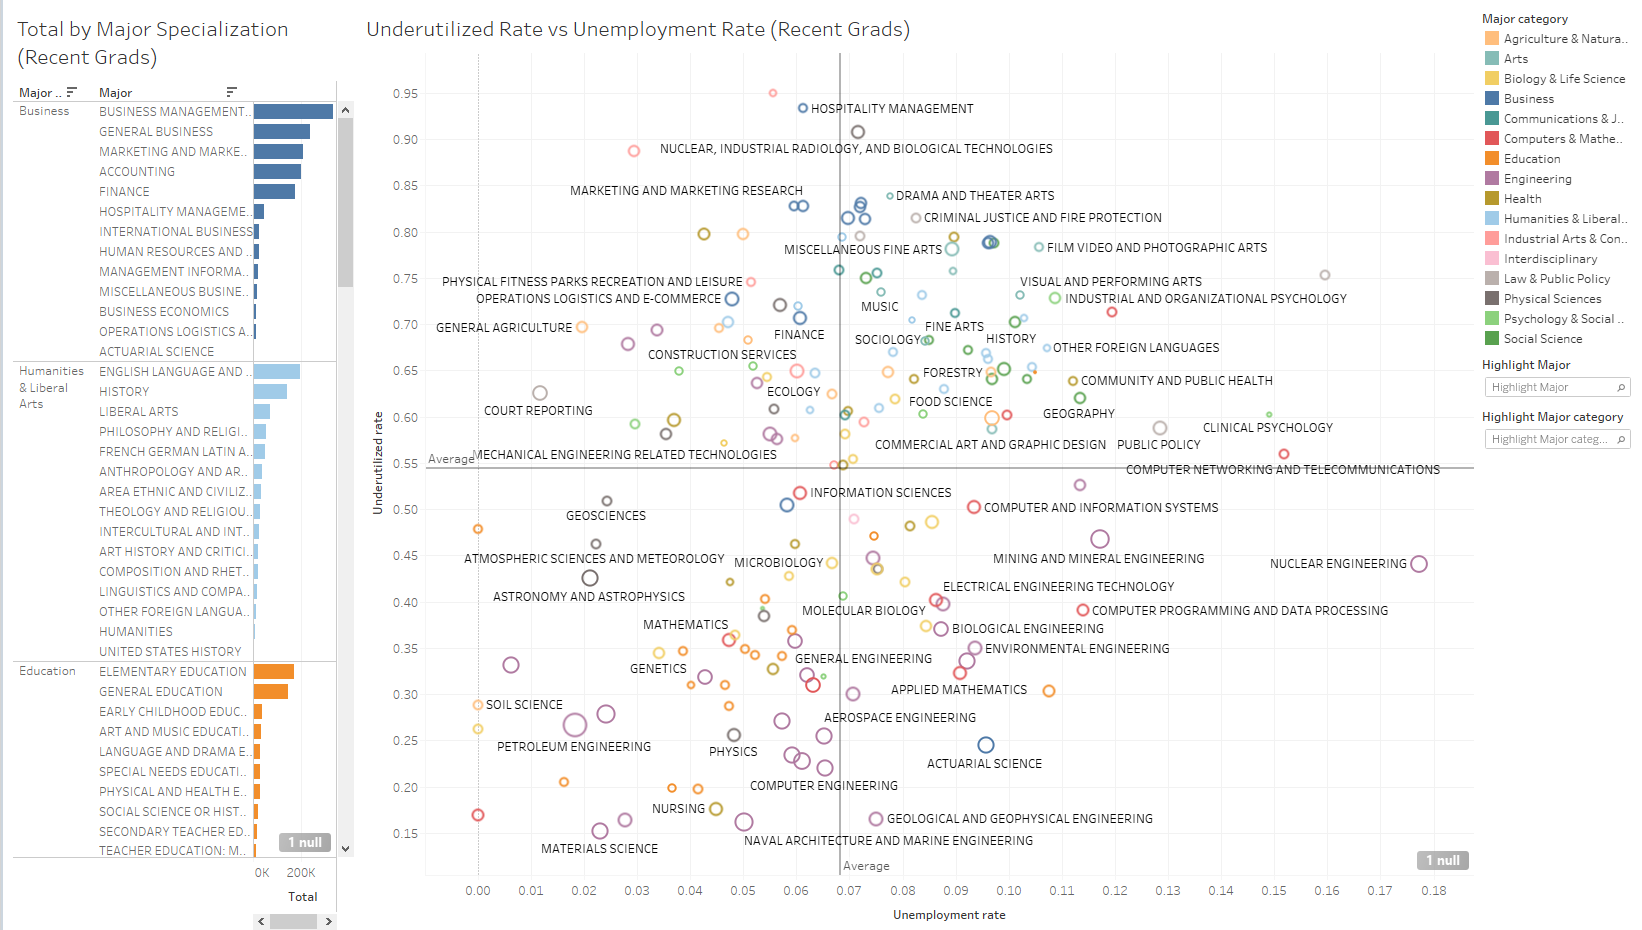

What the dashboard file says about the page in this screenshot:
{"tool":"tableau","page":{"name":"DB5","canvas":[1000,1000],"units":"permille","ordinal":4},"visuals":[{"type":"worksheet","title":"TotalGroupBar","mark":"Automatic","rows":["Major_category","Major"],"cols":["Total"],"box":[4.9,8.5,212.1,983.1]},{"type":"worksheet","title":"Scatter4_URvUR","mark":"Automatic","rows":["Calculation_211106286707970048"],"cols":["Unemployment_rate"],"box":[217,8.5,680.9,983.1]},{"type":"legend","title":"Scatter4_URvUR","param":"[federated.1q5ycf40tl7pp21941vf40f0e6t9].[none:Major_category:nk]","box":[897.9,8.5,97.3,366.5]},{"type":"highlighter","title":"TotalGroupBar","param":"[federated.1q5ycf40tl7pp21941vf40f0e6t9].[none:Major:nk]","box":[897.9,375,97.3,55.1]},{"type":"highlighter","title":"TotalGroupBar","param":"[federated.1q5ycf40tl7pp21941vf40f0e6t9].[none:Major_category:nk]","box":[897.9,430.1,97.3,55.1]}]}

Visuals, with their boxes on the dashboard's canvas, which has no fixed pixel size, in thousandths of its width and height (x1, y1, x2, y2). These are canvas units, not pixel positions in the 1642x930 screenshot, which may show the page scaled, cropped or inside an application window:
"TotalGroupBar" worksheet: 5,8,217,992
"Scatter4_URvUR" worksheet: 217,8,898,992
"Scatter4_URvUR" legend: 898,8,995,375
"TotalGroupBar" highlighter: 898,375,995,430
"TotalGroupBar" highlighter: 898,430,995,485
